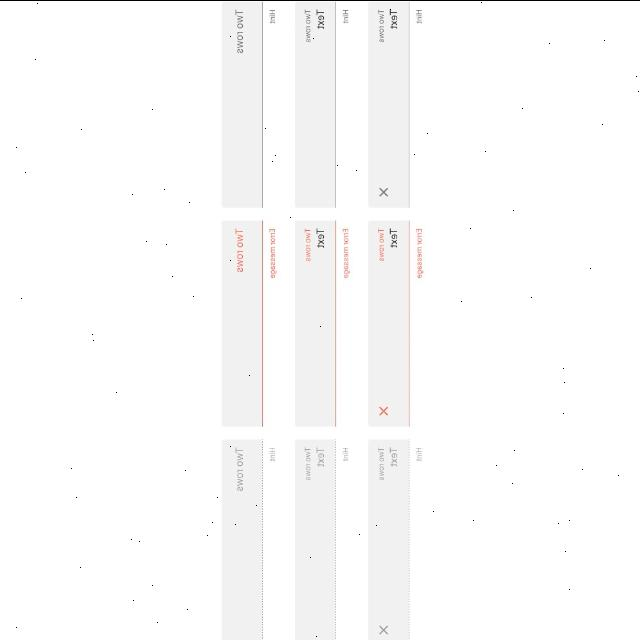VTextarea: (220, 218, 278, 427), (366, 1, 424, 208), (294, 1, 351, 208), (294, 219, 350, 427), (368, 218, 424, 426), (220, 1, 276, 208), (220, 438, 276, 640), (293, 438, 349, 640), (367, 438, 423, 640)
